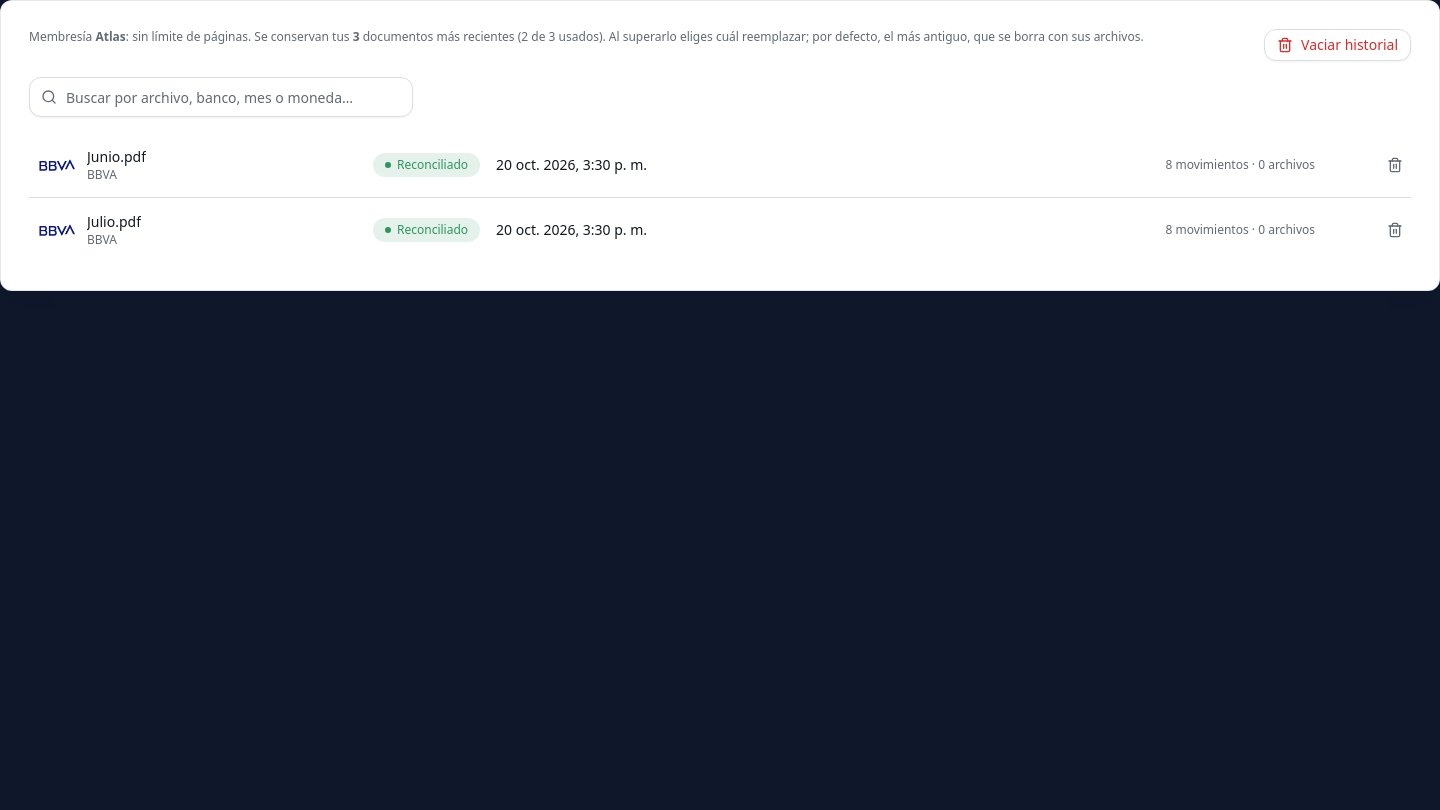
Test: Borrar documentos del historial › si falla, lo explica con los datos para soporte y deja reintentar
Click the button named "Borrar Junio.pdf": (1395, 165) [1379,149,1411,181]
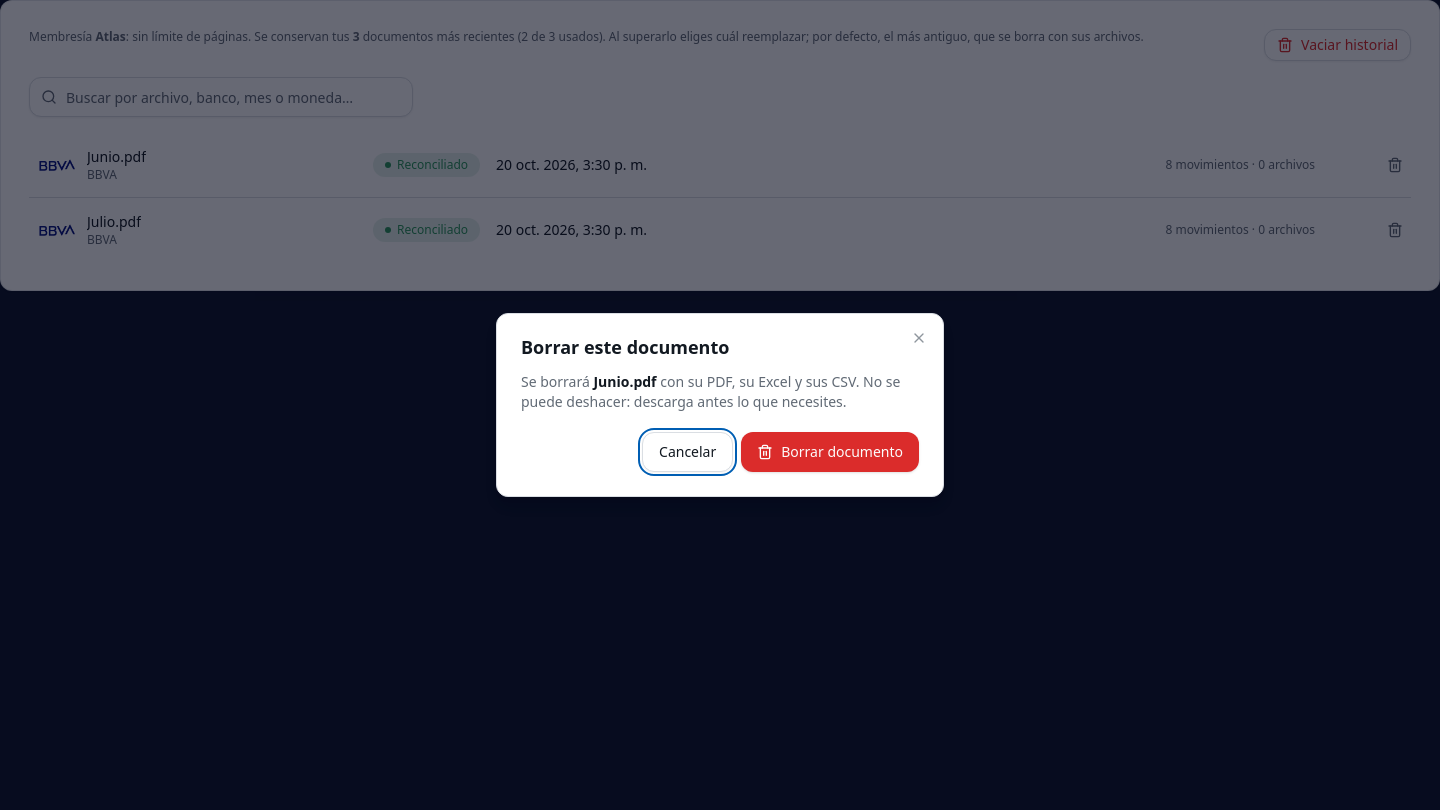
Click the button "Borrar documento": (830, 452) [741,432,919,472]
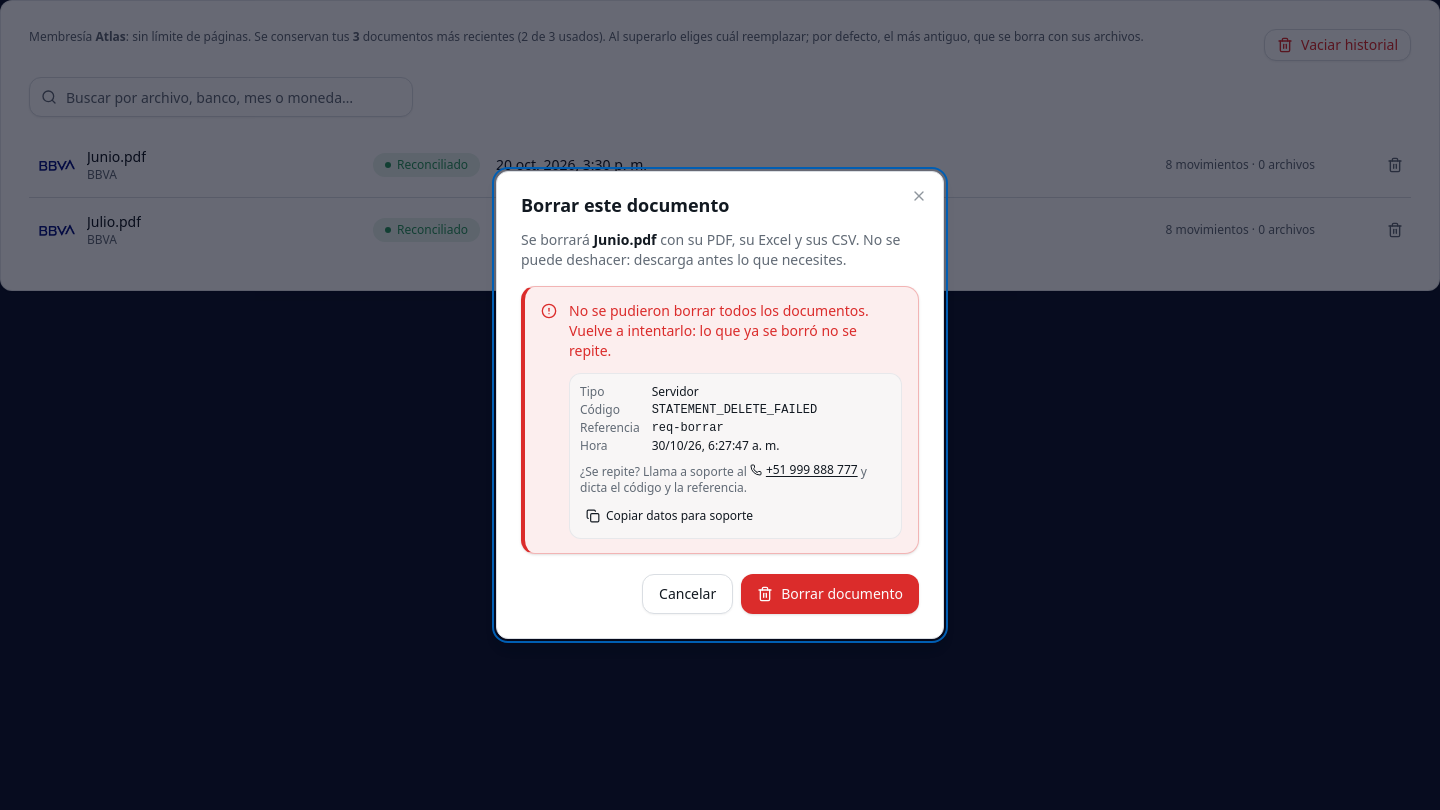
expect the button "Borrar documento" is enabled: met, box [741,574,919,614]
expect the text "No se pudieron borrar todos los documentos" is shown: met, box [569,301,869,360]
expect the text "req-borrar" is shown: met, box [652,421,724,435]
